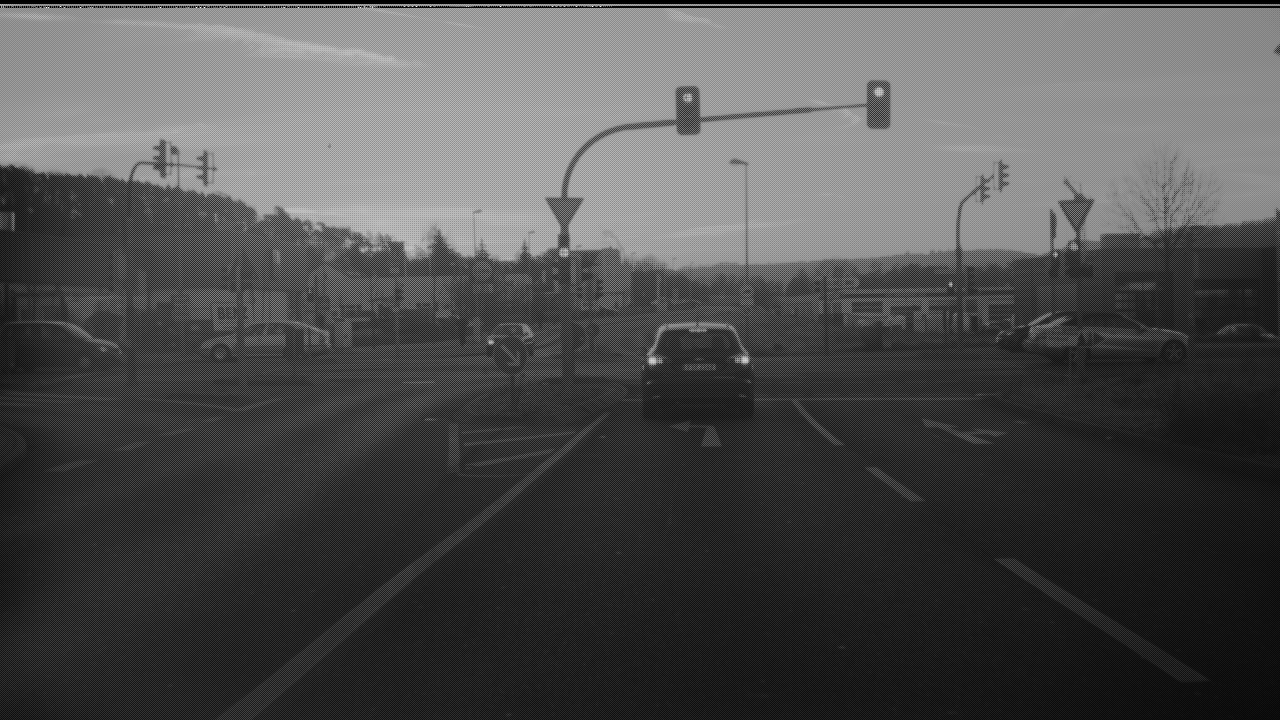pole: (561, 162, 574, 376), (126, 159, 134, 376), (744, 157, 750, 332), (956, 191, 963, 341)
